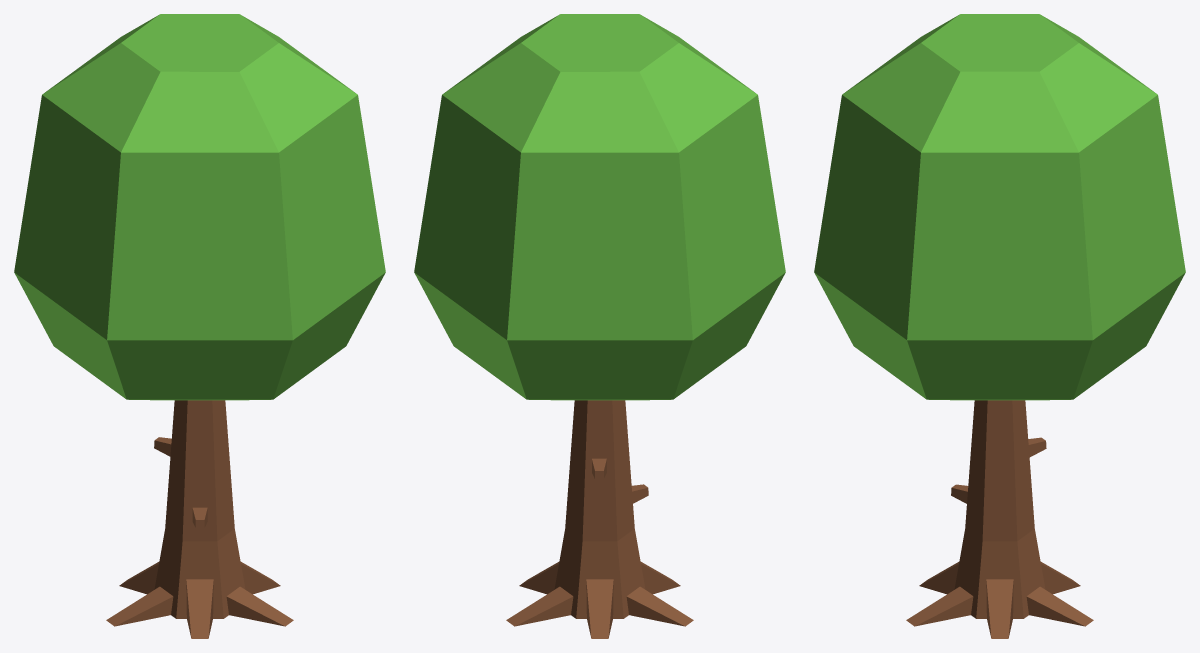
Rendered from tree_oak.glb.
The picture shows the model from 3 angles, left to right: view 1: azimuth 30°, elevation 25°; view 2: azimuth 150°, elevation 25°; view 3: azimuth 270°, elevation 25°; orthographic projection.
Parts seen in each view (by area): view 1: tree_oak; view 2: tree_oak; view 3: tree_oak.
Part boxes in pixels (x1=…): tree_oak: x1=14, y1=14, x2=385, y2=638; tree_oak: x1=414, y1=14, x2=785, y2=638; tree_oak: x1=814, y1=14, x2=1185, y2=638.
Bounding box in the file's own units: 0.6406 × 1.23 × 0.7397.
